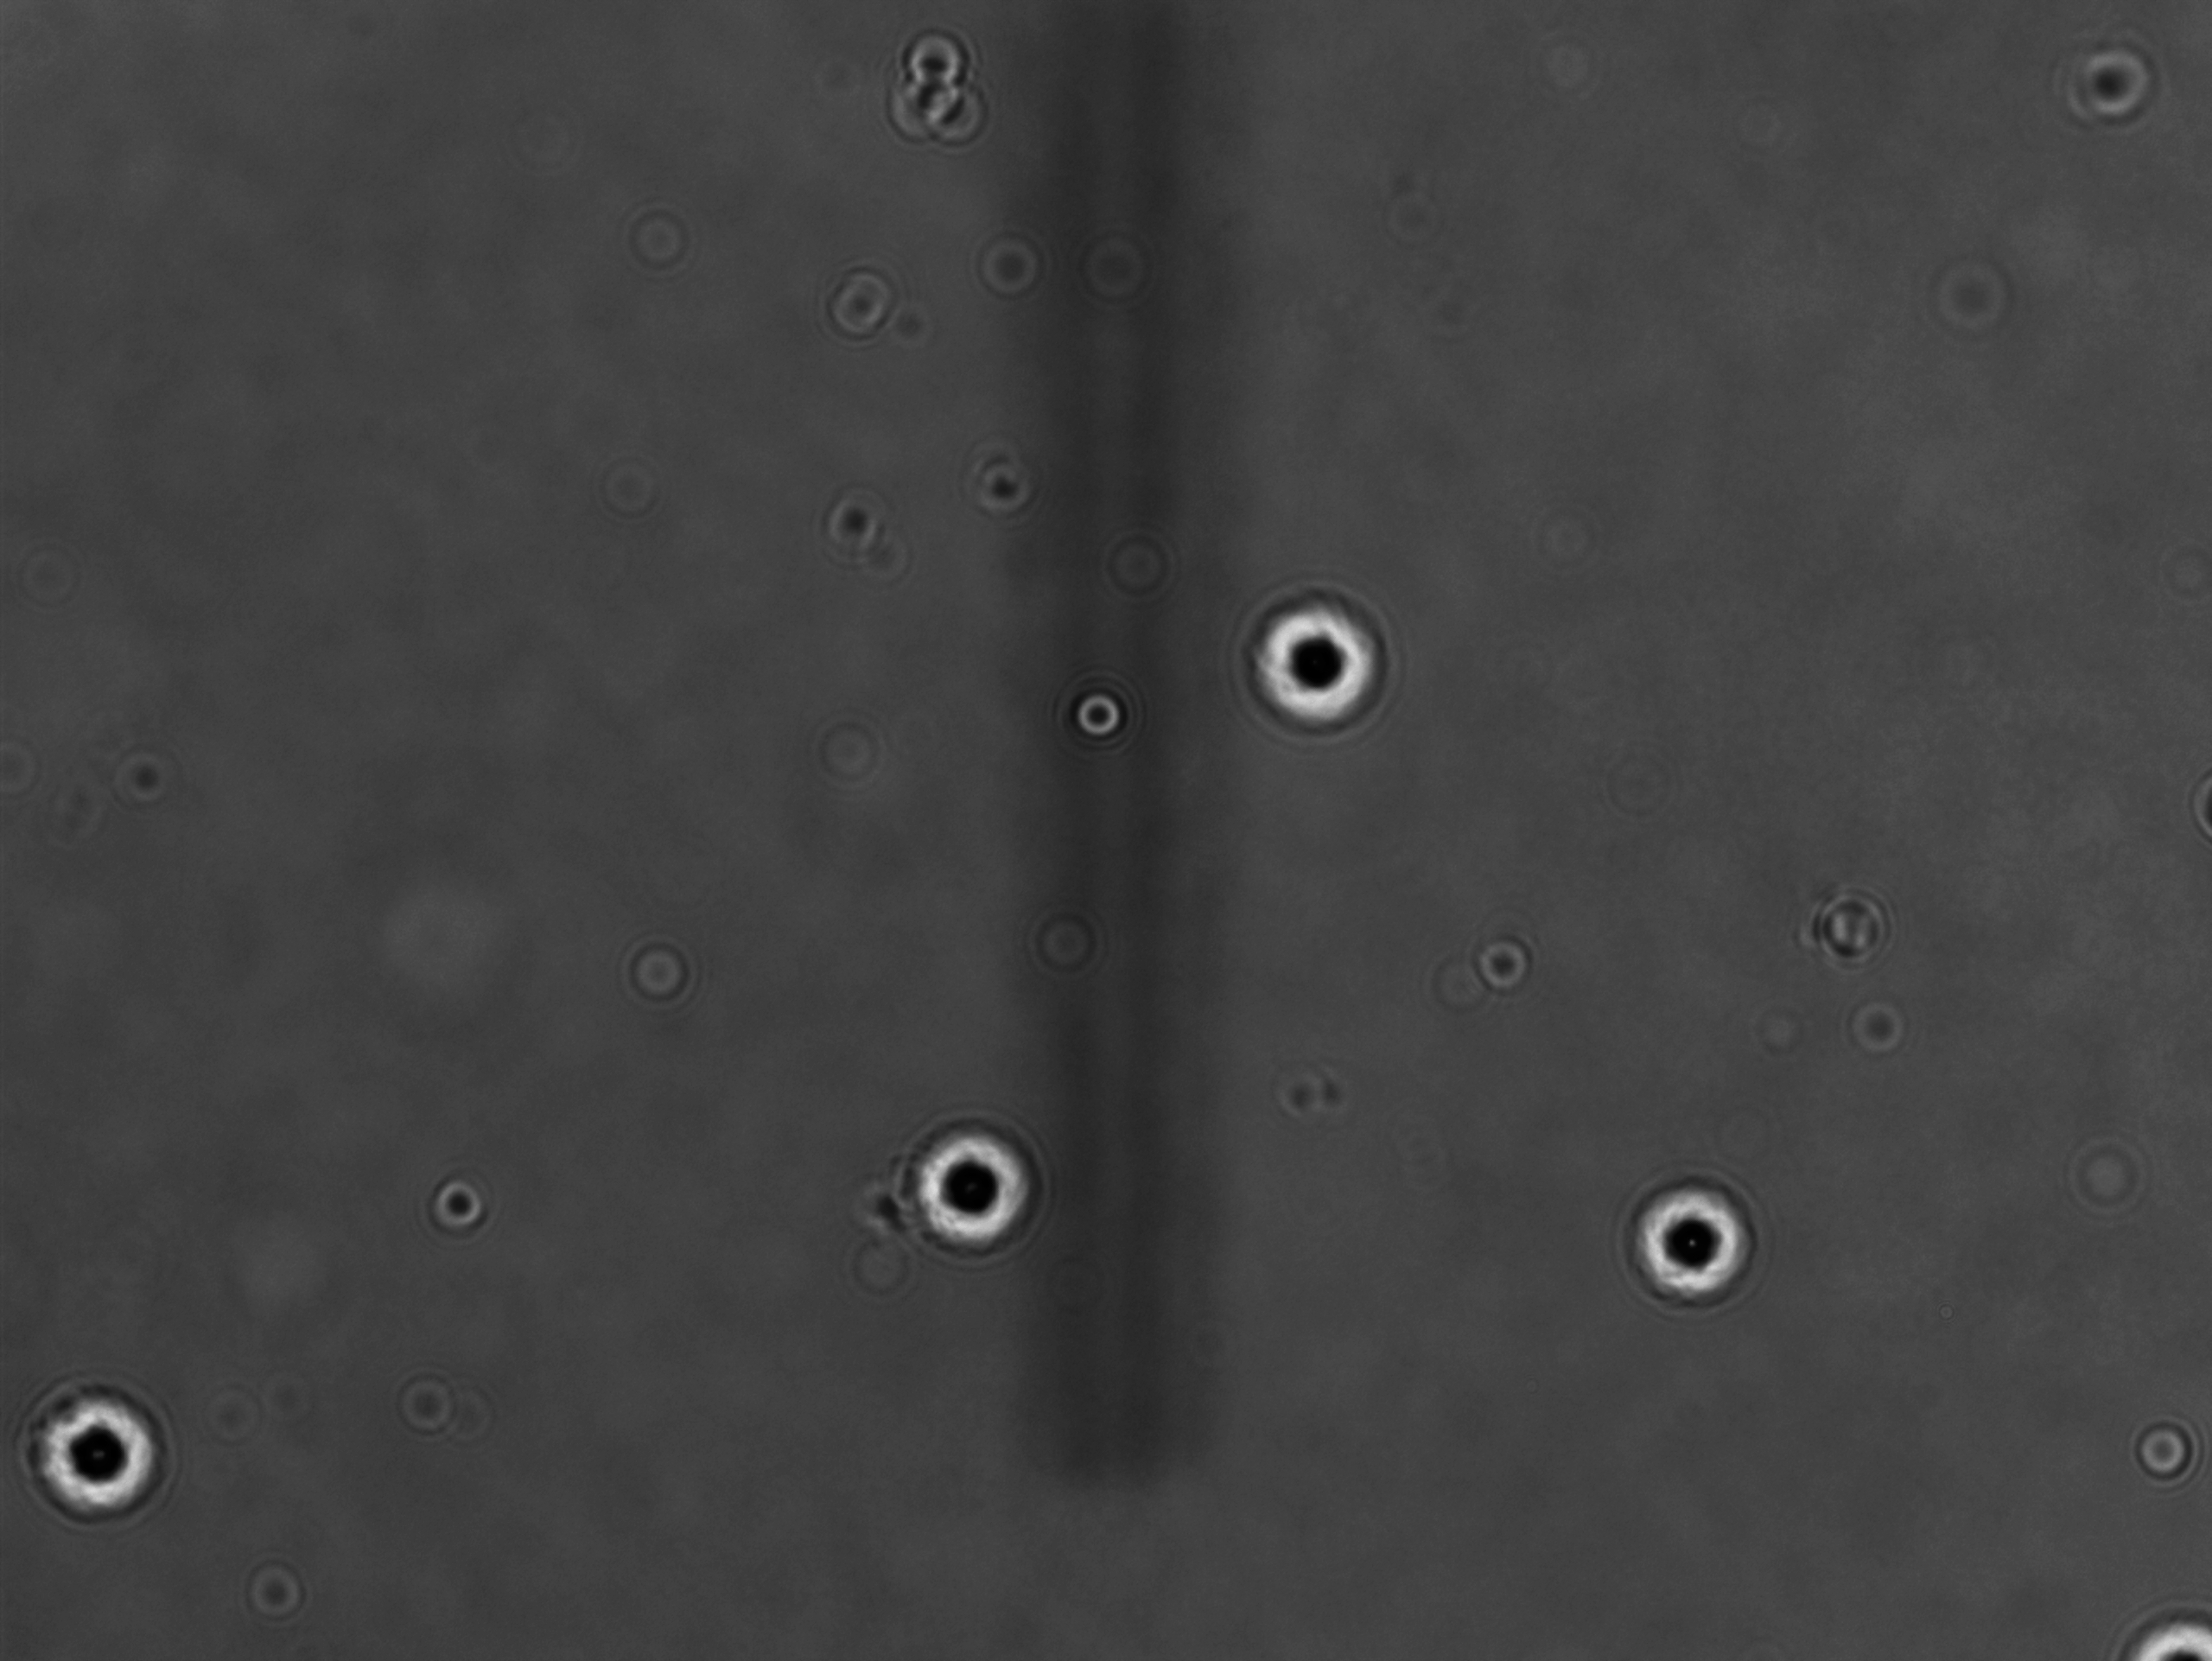depth:-20: (10, 1361, 190, 1530), (1615, 1165, 1786, 1329), (877, 1111, 1043, 1267), (1228, 583, 1389, 740)
